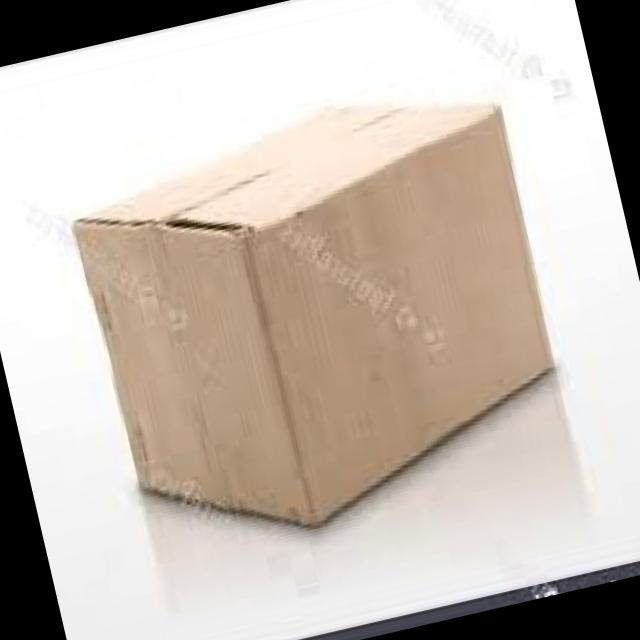cardboard paper: (74, 101, 551, 523)
